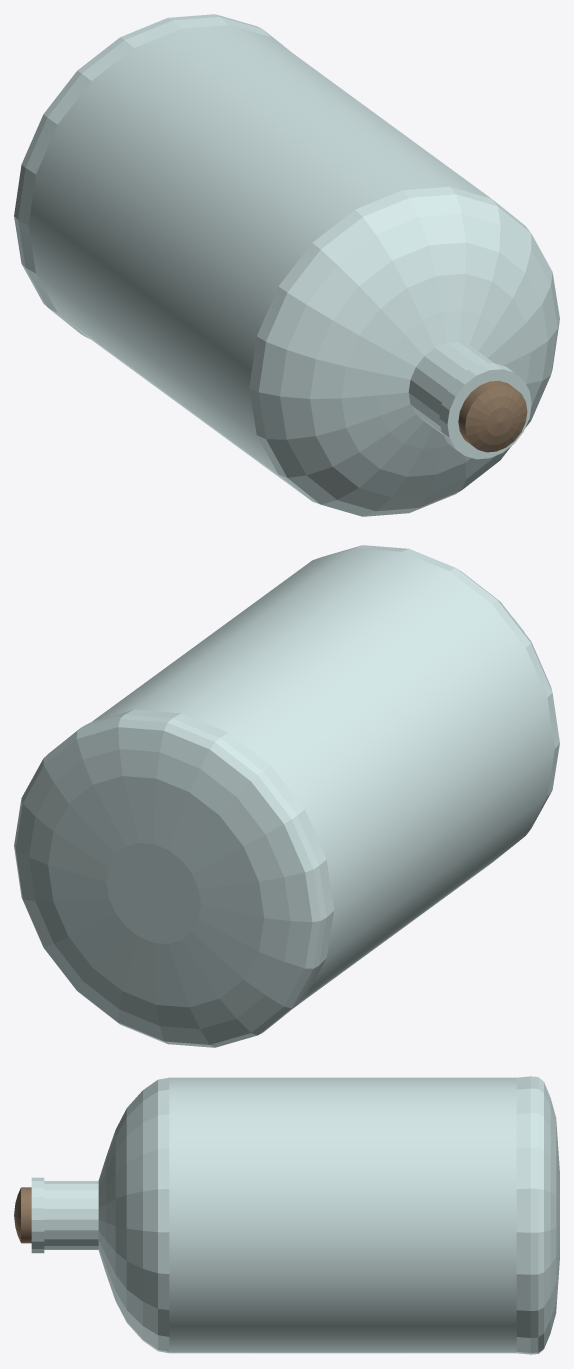
Rendered from ShipinBottle.fbx.
3 renders of one model, top to bottom at view 1: azimuth 30°, elevation 25°; view 2: azimuth 150°, elevation 25°; view 3: azimuth 270°, elevation 25°, orthographic. The views are drawn at different scales.
Parts seen in each view (by area): view 1: BottleMesh, BottlePlugMesh; view 2: BottleMesh; view 3: BottleMesh, BottlePlugMesh.
Part boxes in pixels (box(x1,y1,x2,y2)): BottleMesh: box(14, 14, 559, 516); BottlePlugMesh: box(458, 380, 527, 452); BottleMesh: box(14, 545, 559, 1047); BottleMesh: box(31, 1076, 559, 1354); BottlePlugMesh: box(14, 1187, 31, 1243).
Size of what is drawn, in the model's own units: 44.14 by 44.14 by 85.95.
